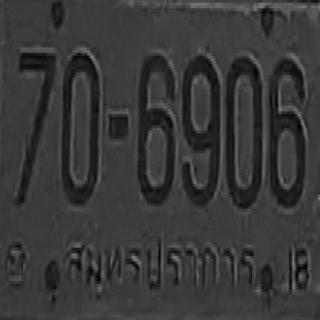N00: (61, 50, 99, 203), (224, 56, 262, 209)
N06: (136, 52, 175, 205), (268, 56, 306, 206)
N07: (15, 50, 56, 206)
N09: (181, 53, 219, 206)
P57: (62, 229, 260, 307)
